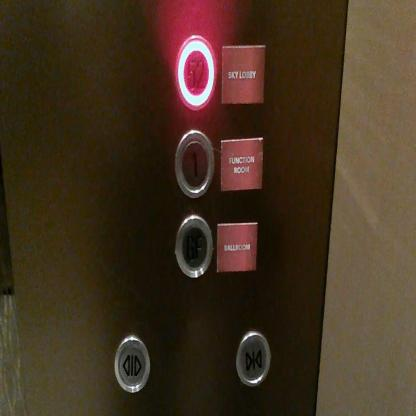1: (173, 125, 215, 202)
52: (173, 30, 217, 113)
GF: (174, 211, 212, 279)
close: (234, 327, 273, 389)
open: (113, 333, 151, 395)
